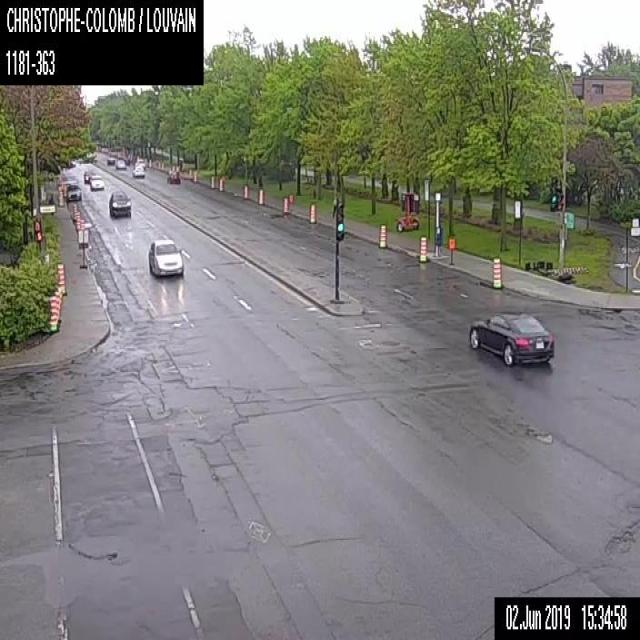construction: (396, 191, 419, 232), (77, 228, 88, 267), (49, 295, 59, 332), (57, 261, 67, 295), (491, 256, 500, 288), (53, 290, 60, 326), (418, 235, 426, 261), (378, 224, 386, 248), (448, 237, 455, 264), (308, 203, 316, 224), (57, 286, 61, 322), (71, 203, 77, 220), (282, 196, 288, 213), (75, 210, 80, 228), (58, 190, 63, 207), (258, 187, 263, 204), (243, 184, 247, 199), (218, 177, 222, 191), (210, 175, 214, 188), (80, 218, 84, 228), (193, 170, 196, 182), (171, 163, 174, 170), (175, 165, 178, 171), (161, 162, 163, 170)
vehicle: (468, 310, 554, 365), (148, 238, 183, 277), (108, 189, 130, 217), (66, 184, 80, 202), (89, 174, 104, 189), (166, 169, 179, 183), (133, 158, 145, 170), (84, 167, 94, 181), (132, 165, 144, 176), (115, 158, 125, 169), (106, 156, 115, 164), (122, 156, 129, 164)
